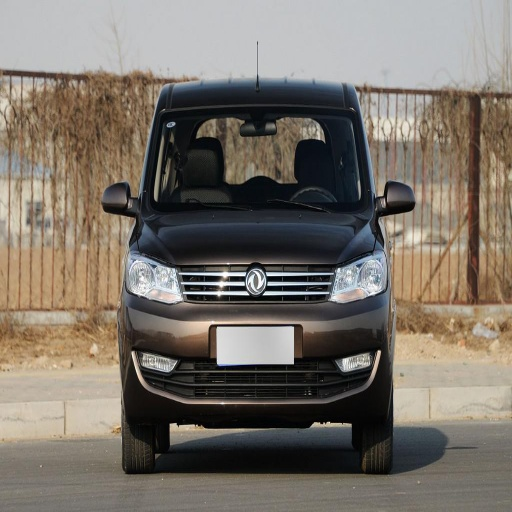front_bumper: (119, 265, 388, 419)
front_right_light: (125, 249, 183, 302)
hood: (139, 208, 374, 272)
left_mirror: (377, 180, 416, 217)
